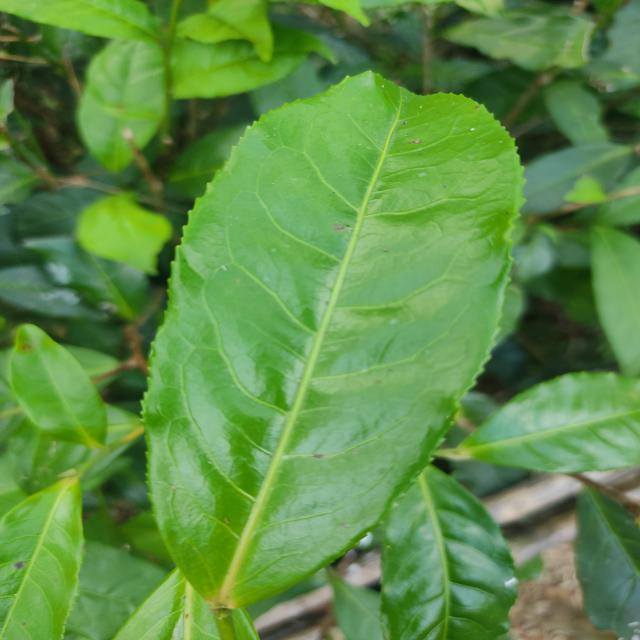Category D(7+ days, Not for Tea): (115, 59, 528, 611)
